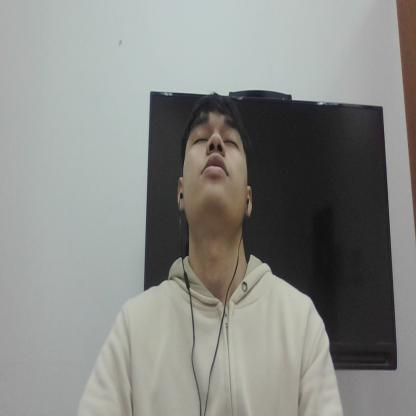Closed-Eyes: (184, 129, 245, 152)
